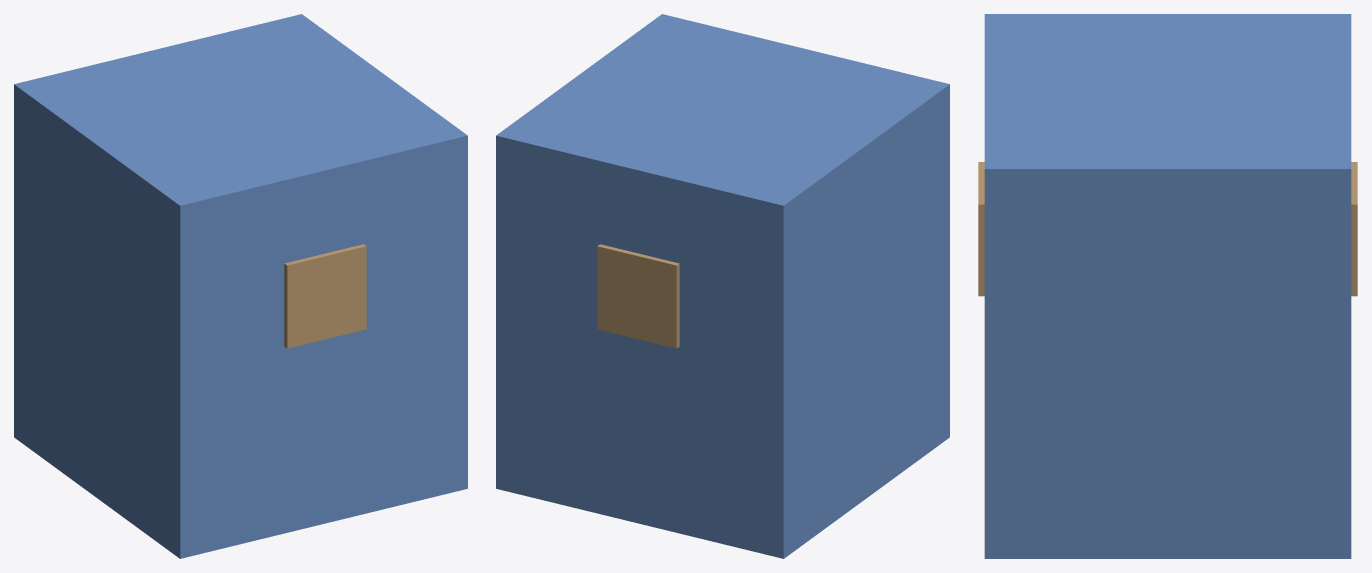
The model's file is macacao_manga_sup.glb.
3 views of the same model, side by side, from view 1: azimuth 30°, elevation 25°; view 2: azimuth 150°, elevation 25°; view 3: azimuth 270°, elevation 25° (orthographic). The views are drawn at different scales.
Parts seen in each view (by area): view 1: macacao_manga_sup; view 2: macacao_manga_sup; view 3: macacao_manga_sup.
Boxes of the visible parts, x1,y1,x2,y2 form: macacao_manga_sup: (14,14,467,558); macacao_manga_sup: (496,14,949,558); macacao_manga_sup: (978,14,1357,558).
Size of the model in its own units: 0.29 by 0.34 by 0.3.
